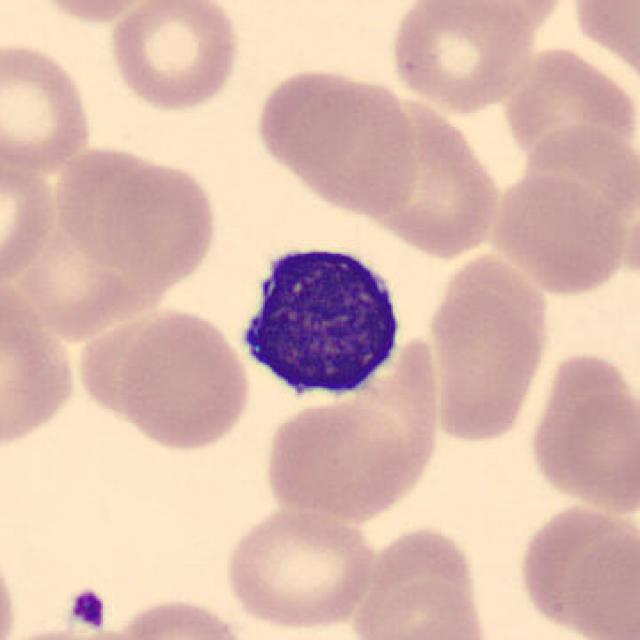Lymphocyte: (226, 229, 414, 409)
Platelets: (64, 585, 110, 635)
RBC: (420, 249, 554, 453), (342, 98, 494, 260), (259, 392, 426, 524), (114, 307, 254, 453), (220, 504, 378, 633), (524, 346, 638, 518), (489, 169, 631, 298), (386, 0, 540, 115), (512, 504, 638, 640), (291, 79, 415, 213), (92, 157, 220, 286), (501, 37, 640, 155), (105, 0, 243, 115), (0, 272, 82, 456), (252, 62, 377, 182), (54, 140, 166, 264), (0, 36, 96, 176), (350, 557, 491, 640), (0, 148, 59, 289), (102, 594, 255, 640), (567, 0, 640, 86), (428, 0, 576, 39), (21, 0, 163, 26), (0, 539, 21, 640), (0, 624, 130, 640)
